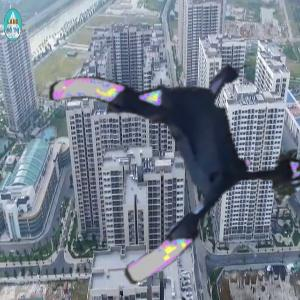drone: (52, 24, 289, 261)
